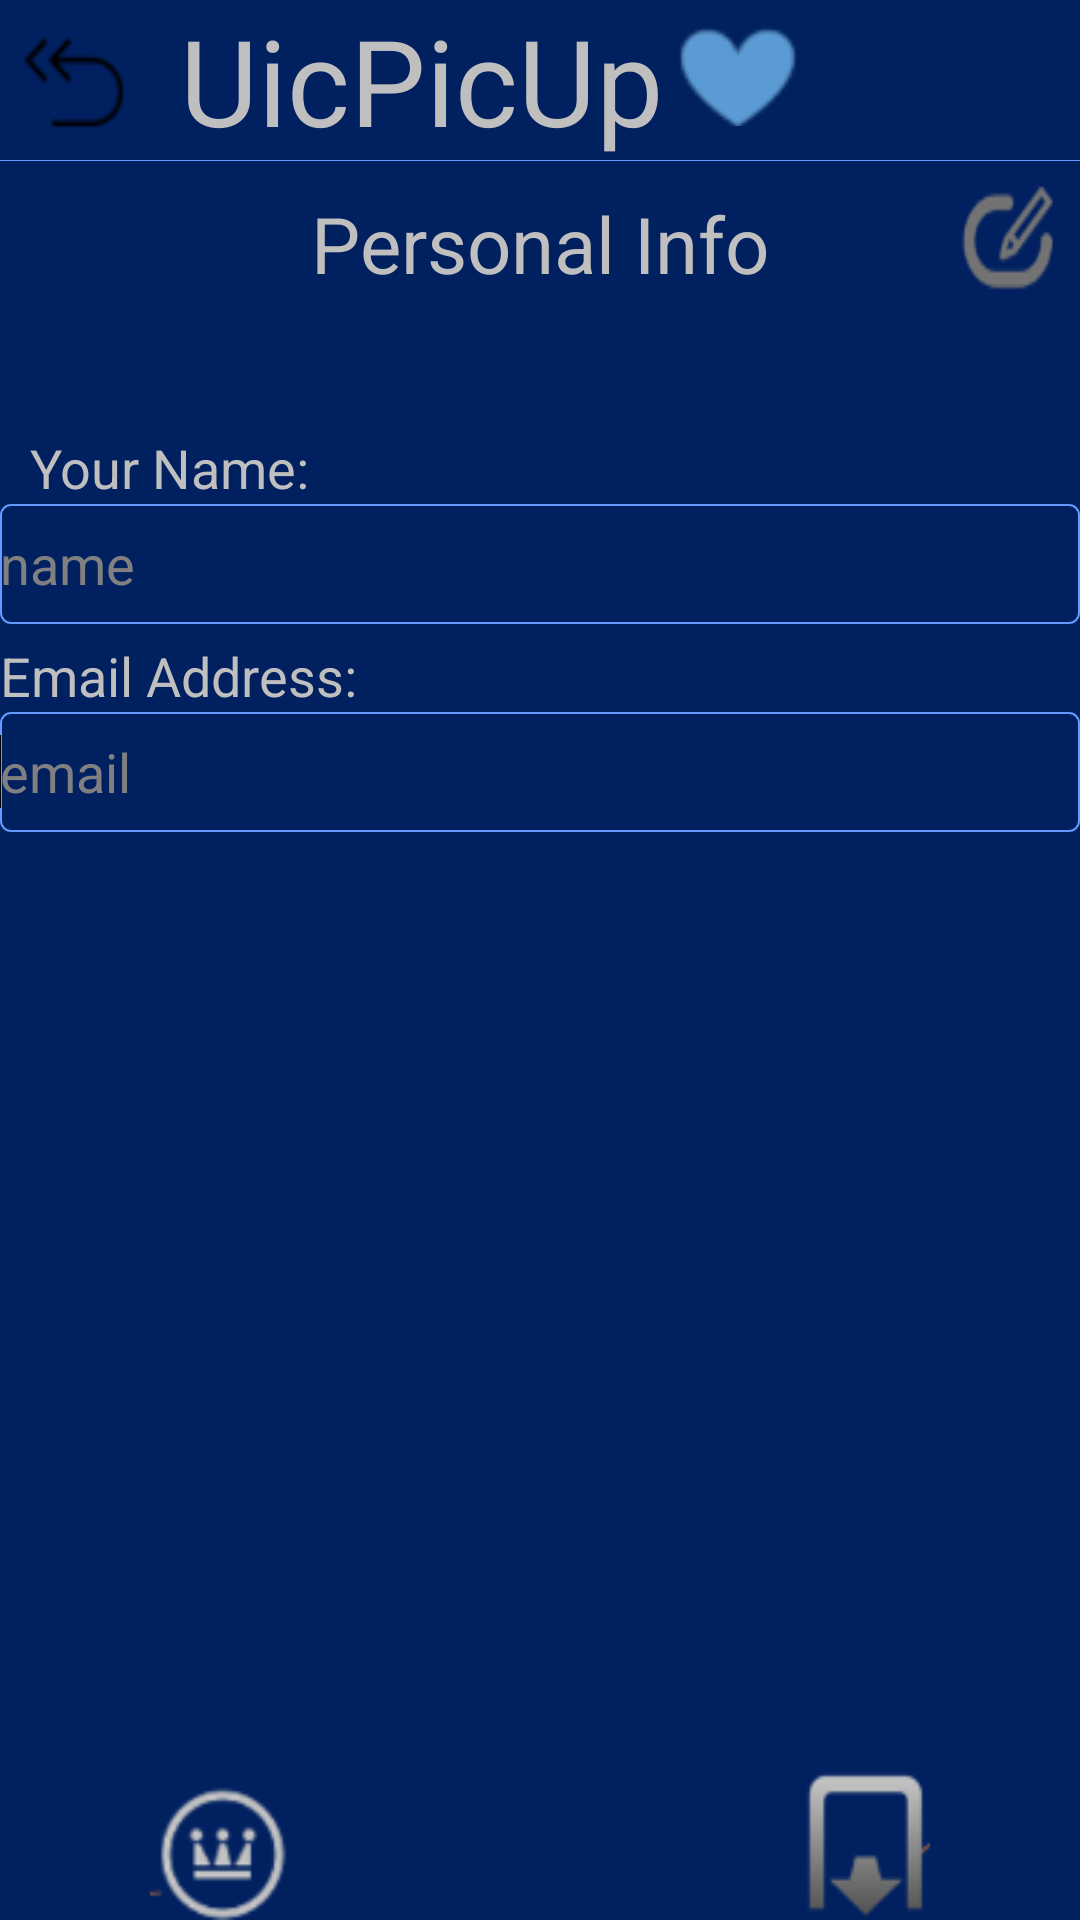

Icons on this 1080px x 1920px Android screen, each with the point to tap as (x=x, y=y):
love: (x=738, y=77)
